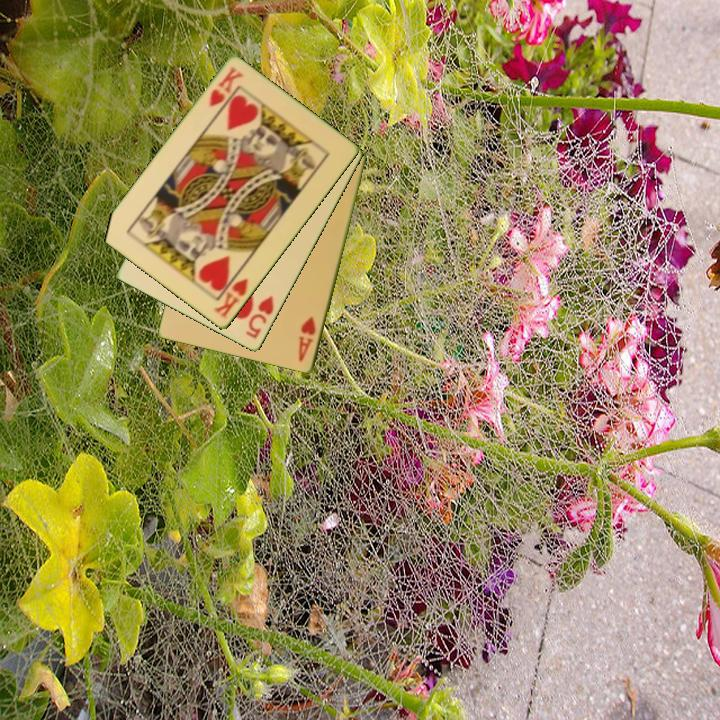5h: (242, 292, 277, 342)
Ah: (295, 313, 319, 365)
Kh: (210, 267, 251, 322), (206, 63, 246, 110)
